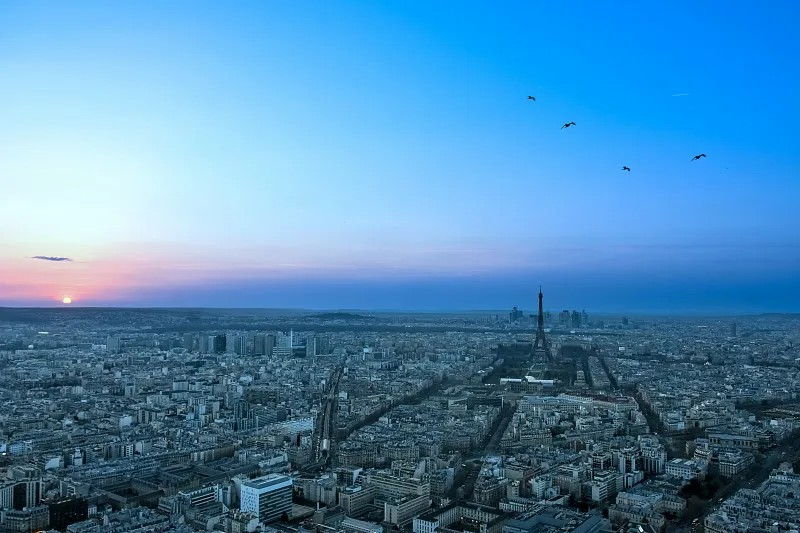Eiffel: (528, 285, 553, 363)
